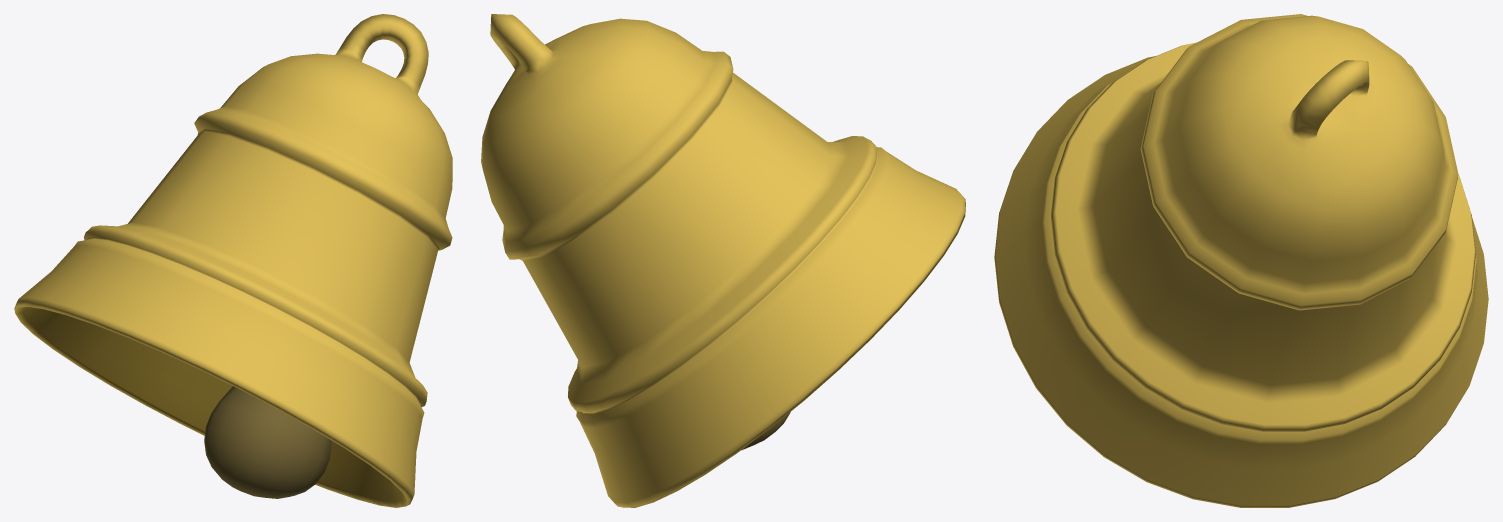
The model's file is bell_final.glb.
The picture shows the model from 3 angles, left to right: view 1: azimuth 30°, elevation 25°; view 2: azimuth 150°, elevation 25°; view 3: azimuth 270°, elevation 25°; orthographic projection. The views are drawn at different scales.
Parts seen in each view (by area): view 1: bell; view 2: bell; view 3: bell.
Part boxes in pixels (x1,y1,x2,y2): bell: (14,14,452,507); bell: (481,14,965,507); bell: (994,14,1488,507).
Bounding box in the file's own units: 0.9463 × 0.9801 × 0.8953.
1 material, 1 textured.
